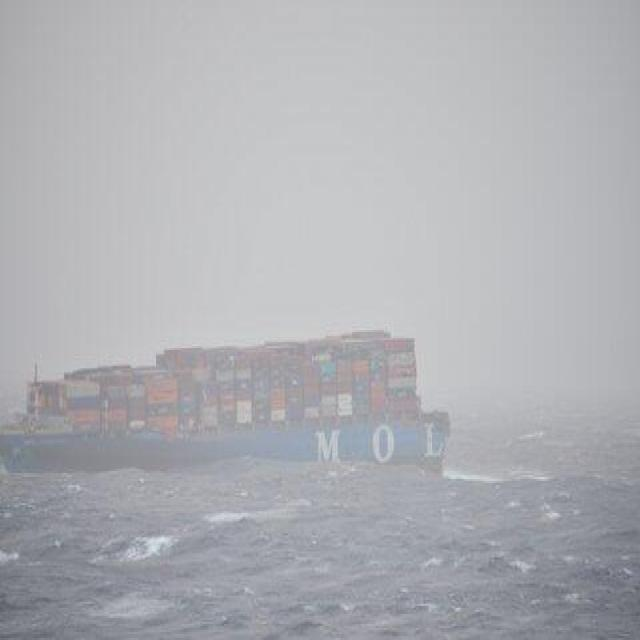cargoship: (0, 328, 449, 474)
